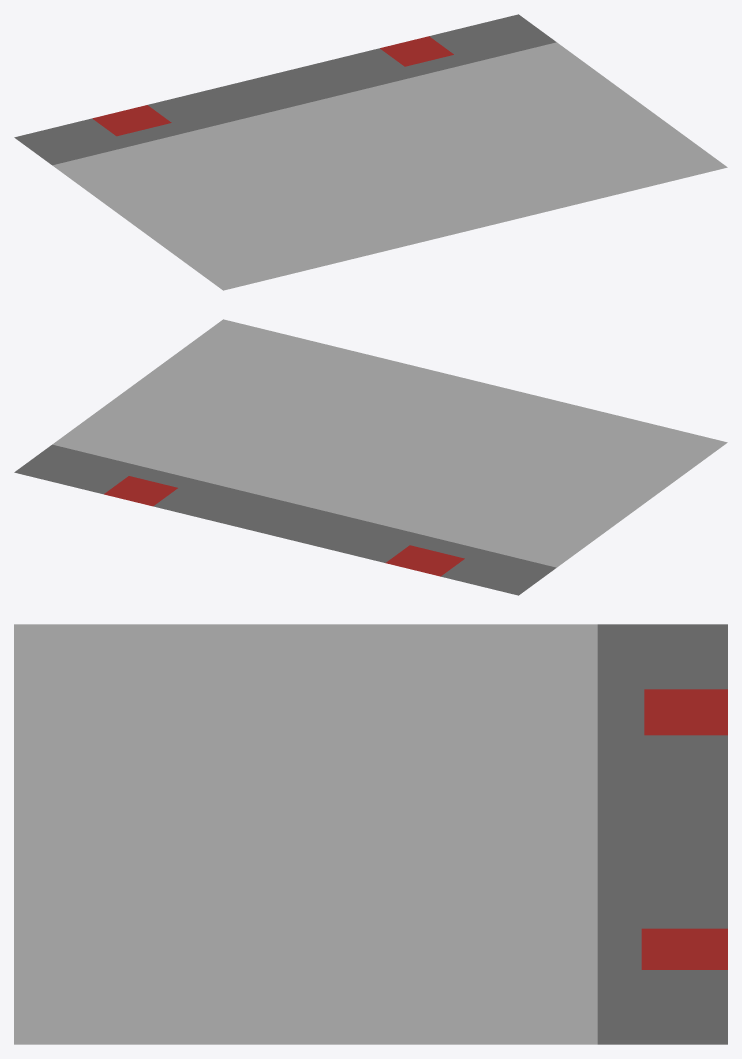
File: Calender.fbx
The picture shows the model from 3 angles, top to bottom: view 1: azimuth 30°, elevation 25°; view 2: azimuth 150°, elevation 25°; view 3: azimuth 270°, elevation 25°; orthographic projection. The views are drawn at different scales.
Visible parts, largest first — view 1: Plane; view 2: Plane; view 3: Plane.
Boxes of the visible parts, x1=… form: Plane: x1=14, y1=14, x2=727, y2=290; Plane: x1=14, y1=319, x2=727, y2=595; Plane: x1=14, y1=624, x2=727, y2=1044.
Bounding box in the file's own units: 278 × 3.26e-05 × 200.
